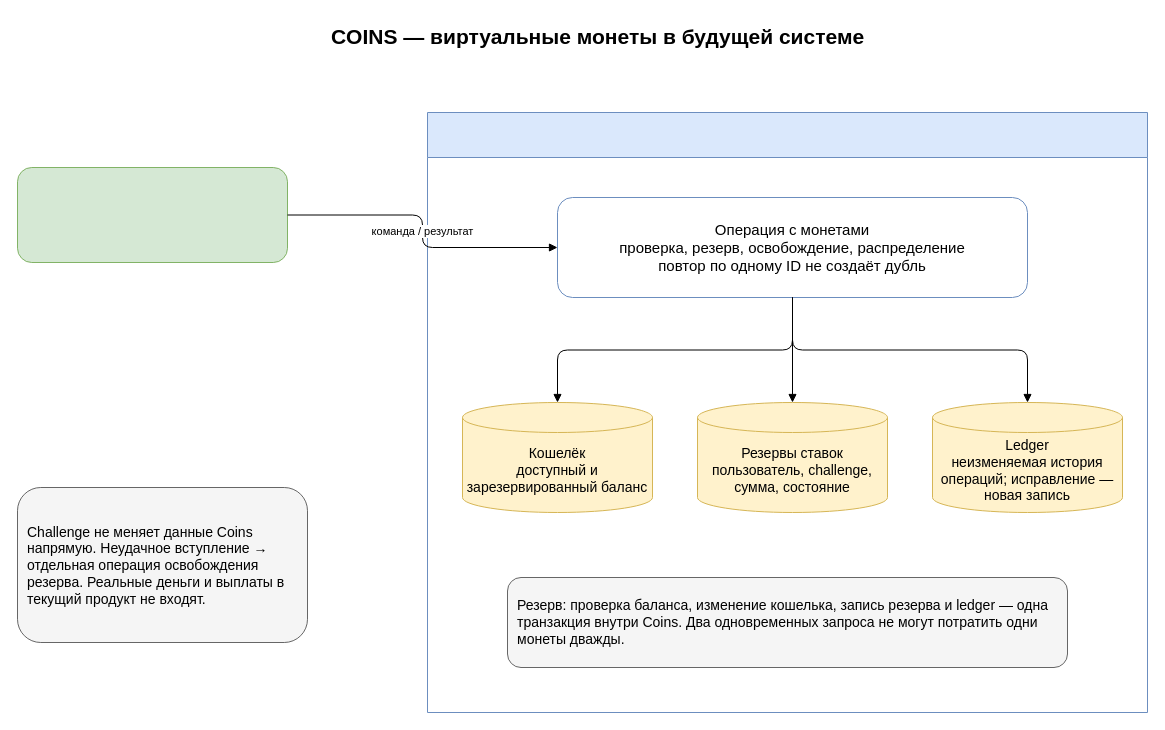
Image size: 1165x730. Some labels were removed from this diagram. Here are the shapes that lost their labels. From the top down, the box of each, then its label:
(16, 166, 288, 262): CHALLENGE условия вступления и итог соревнования
(426, 112, 1148, 712): COINS — собственная область данных и операций
